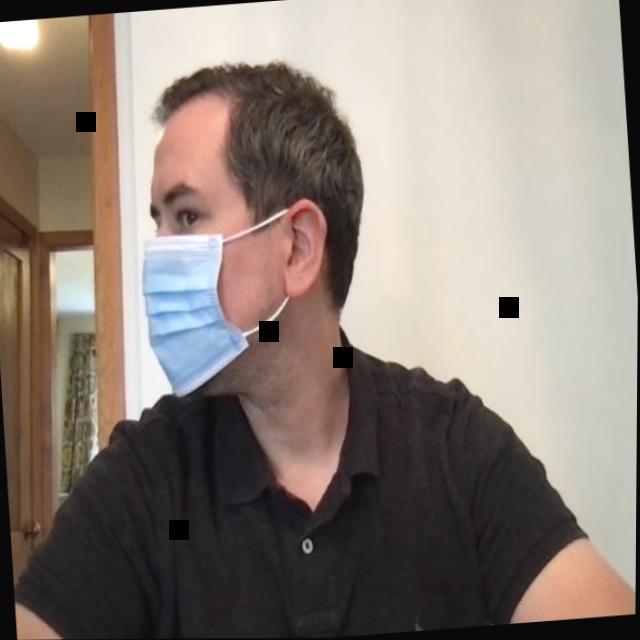Mask: (125, 50, 380, 405)
